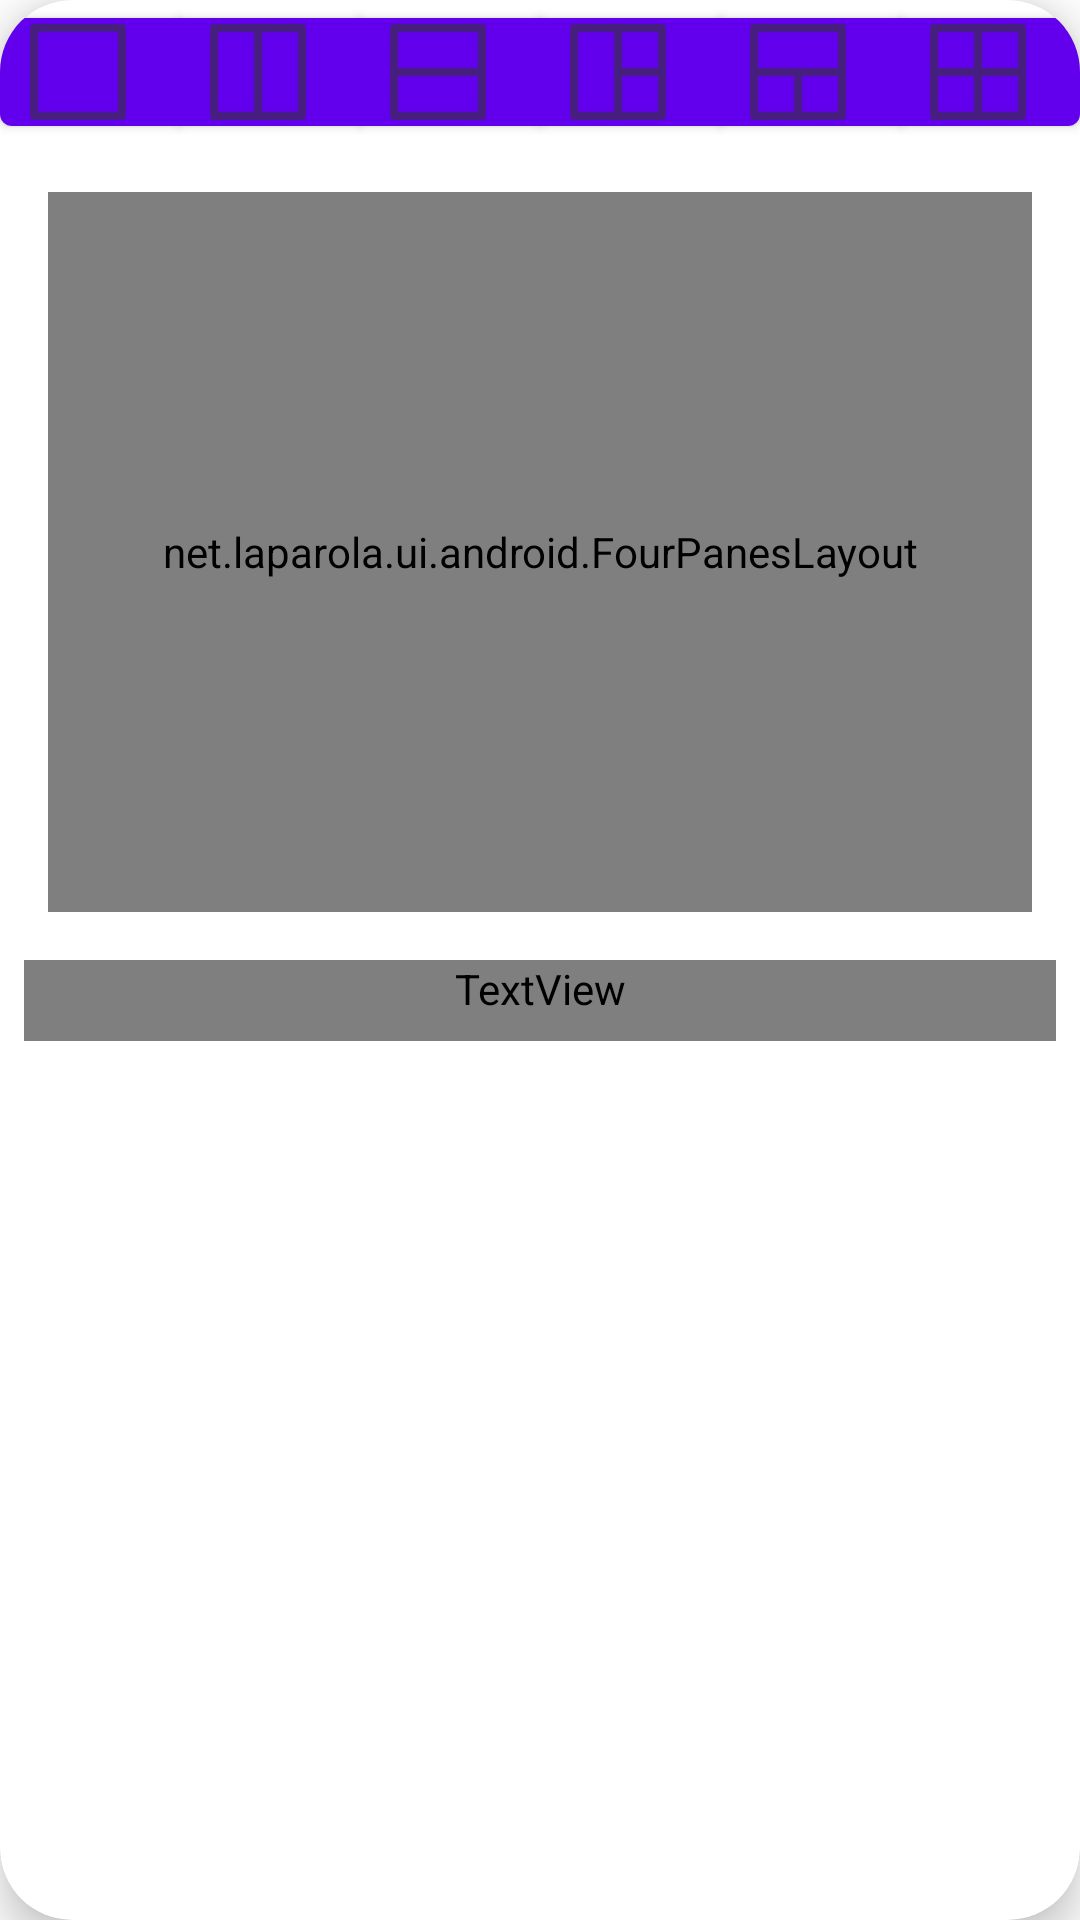

Icon click points for this 1080px x 1920px phone screenshot, format (x,y):
fragments: (90,68), (990,69)
fragments 2h: (450,72)
fragments 2v: (270,72)
fragments 3h: (810,72)
fragments 3v: (630,72)
